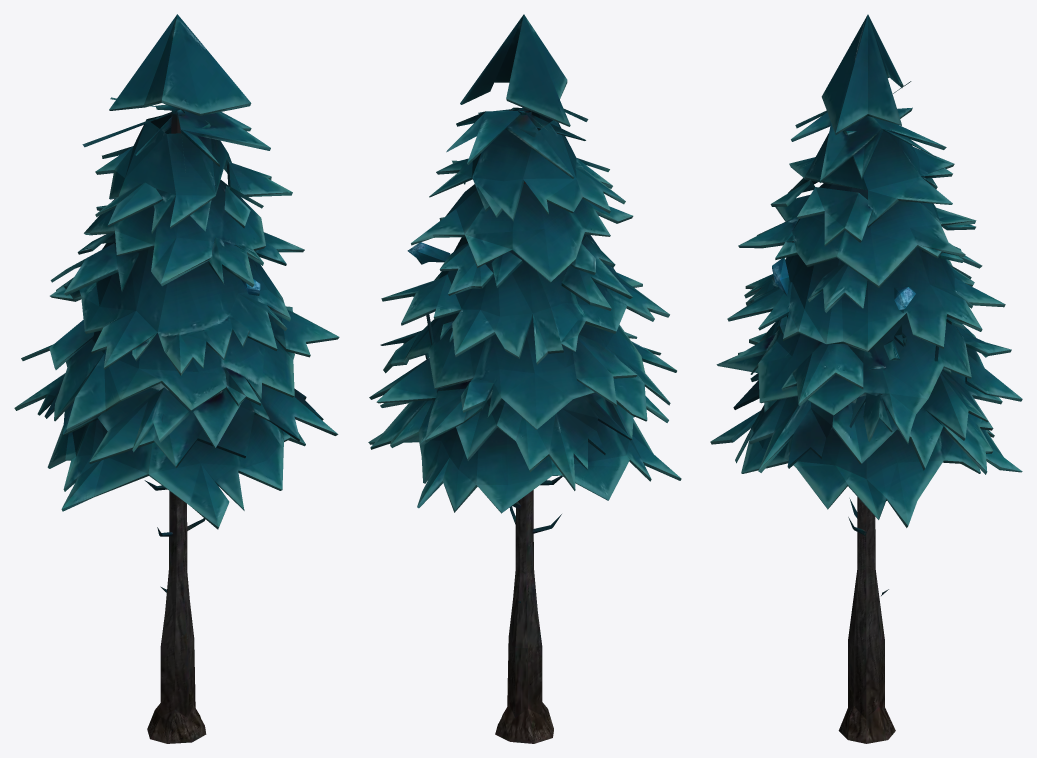
File: tree_pine_tall_LOD0.glb
3 views of the same model, side by side, from view 1: azimuth 30°, elevation 25°; view 2: azimuth 150°, elevation 25°; view 3: azimuth 270°, elevation 25° (orthographic).
Visible parts, largest first — view 1: tree_pine_tall_LOD0; view 2: tree_pine_tall_LOD0; view 3: tree_pine_tall_LOD0.
Part boxes in pixels (box(x1,y1,x2,y2)): tree_pine_tall_LOD0: box(14, 14, 339, 743); tree_pine_tall_LOD0: box(368, 14, 681, 743); tree_pine_tall_LOD0: box(710, 14, 1022, 743).
Size of the model in its own units: 0.397 by 0.9993 by 0.395.
1 material, 1 textured.
